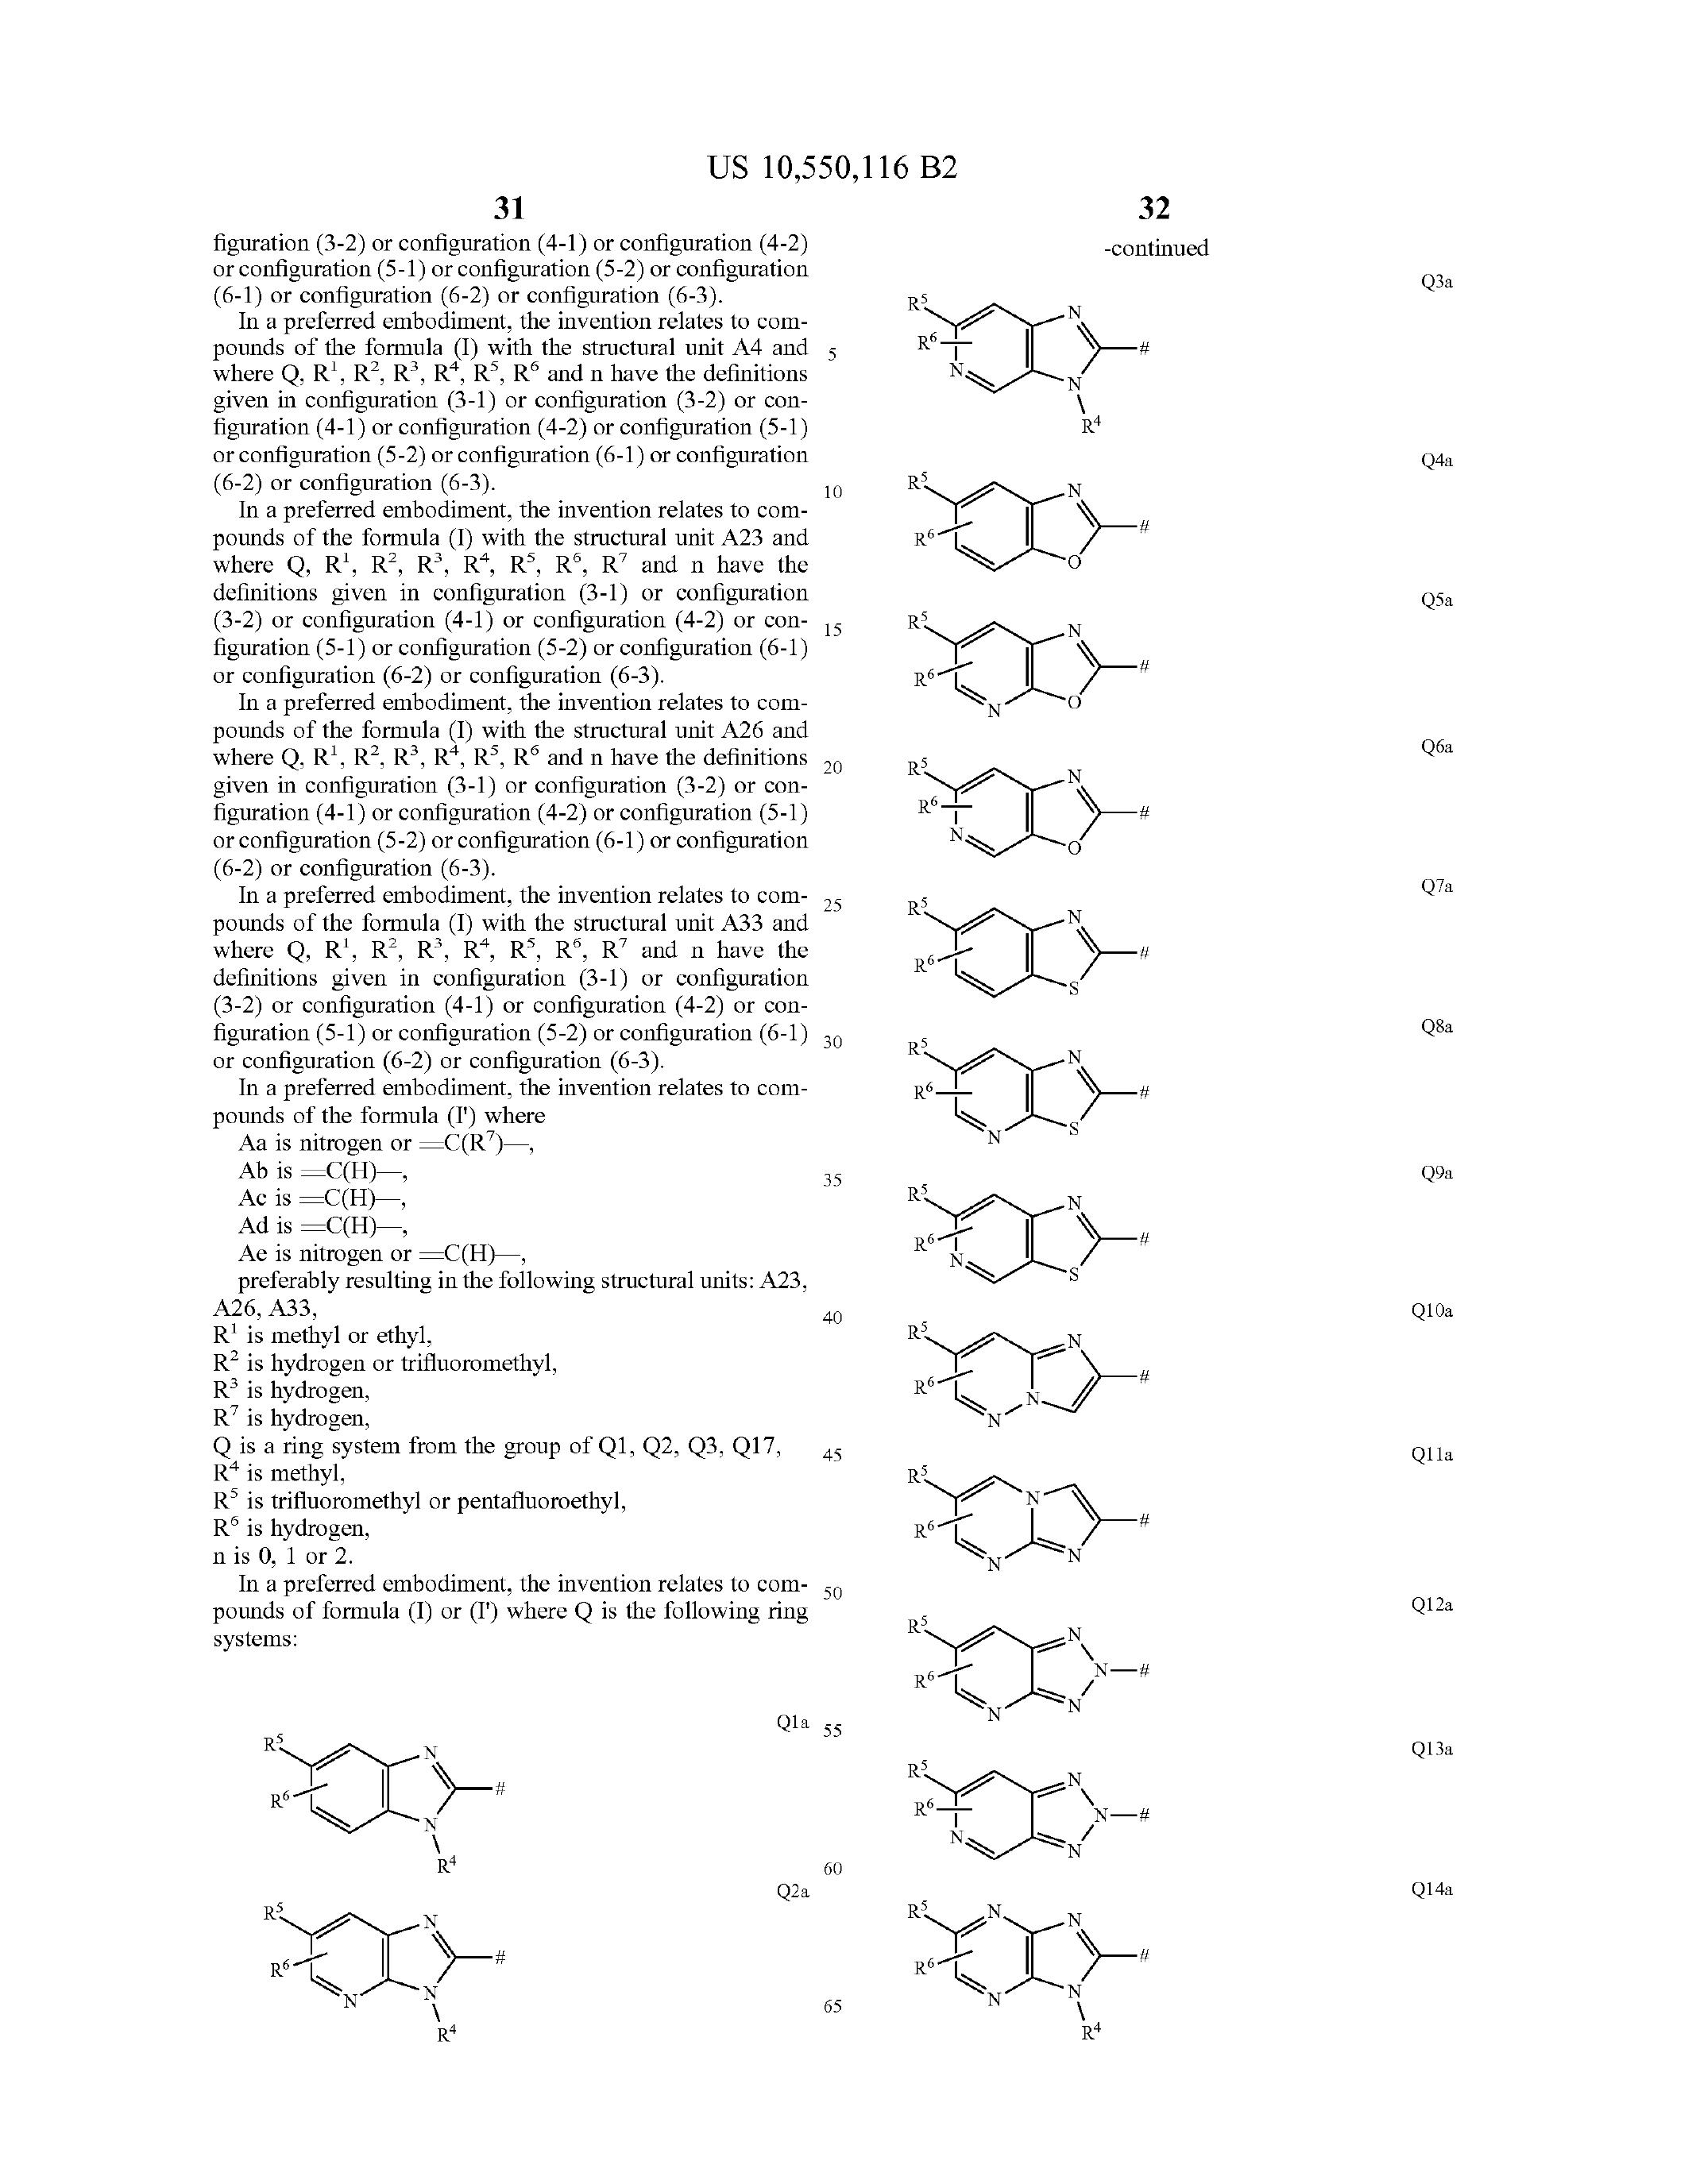substitutes: (874, 1032, 1174, 1455)
